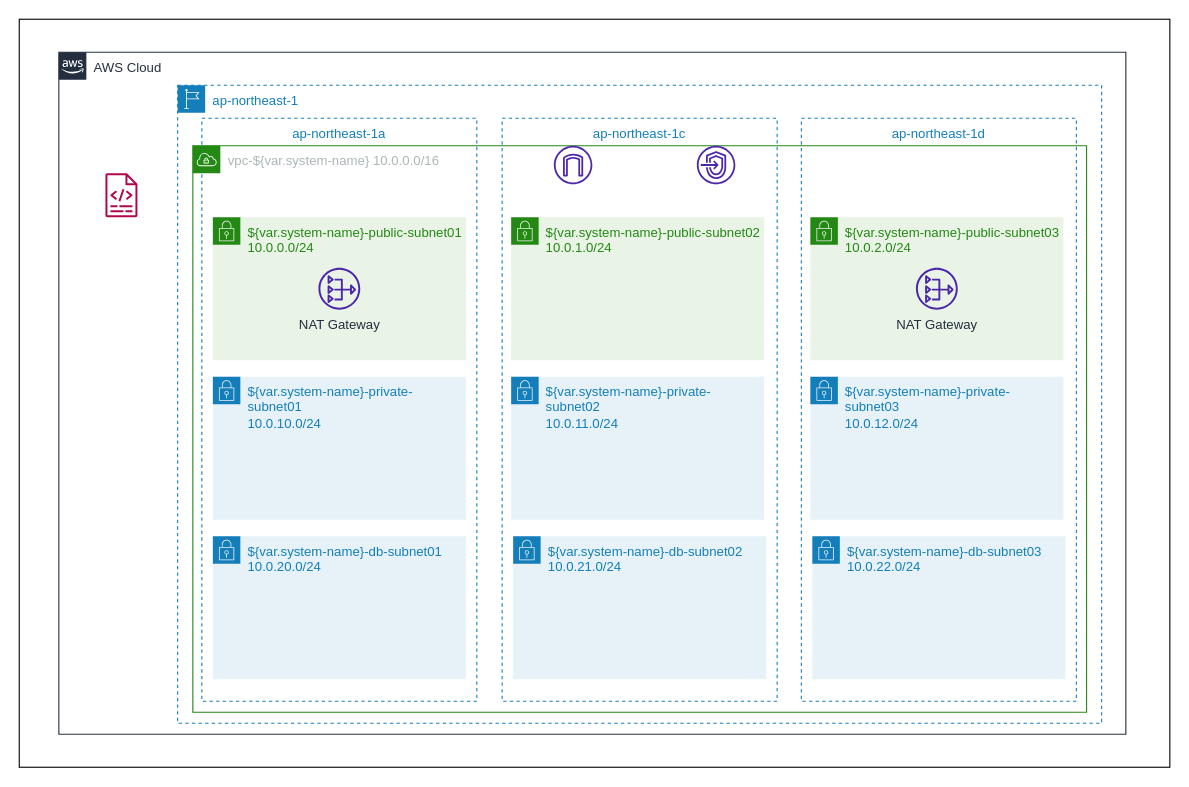
This 1189x787 diagram has some shape labels left out. The centre of each missing label's shape, as x and y in pixels:
"Cloudwatch Logs (VPC Flowlogs)" belongs at [120,195].
"Internet Gateway" belongs at [572,164].
"VPC Endpoint(S3)" belongs at [715,164].
